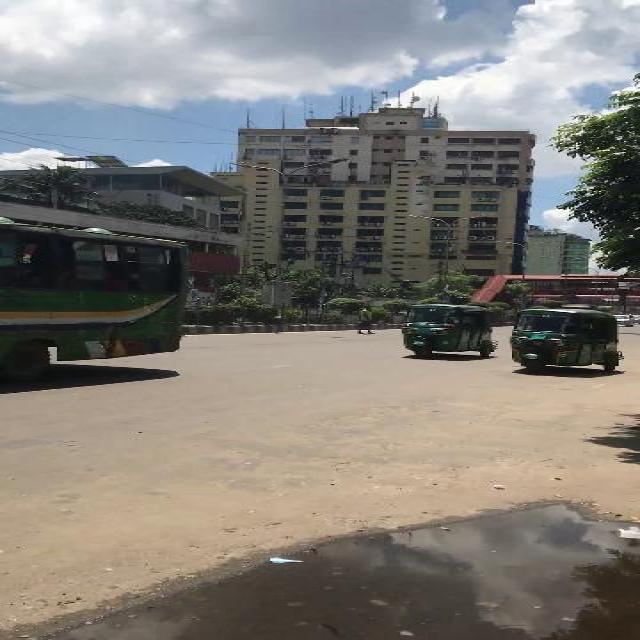bus: (0, 214, 187, 372)
three wheelers -CNG-: (507, 306, 624, 374), (400, 302, 496, 360)
